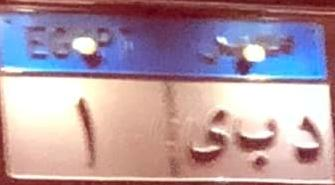1: (76, 88, 111, 173)
ب: (228, 109, 281, 168)
د: (282, 101, 332, 176)
ي: (183, 104, 235, 176)
